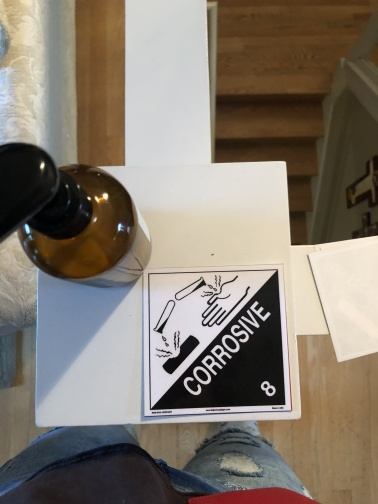Corrosive: (145, 270, 285, 406)
